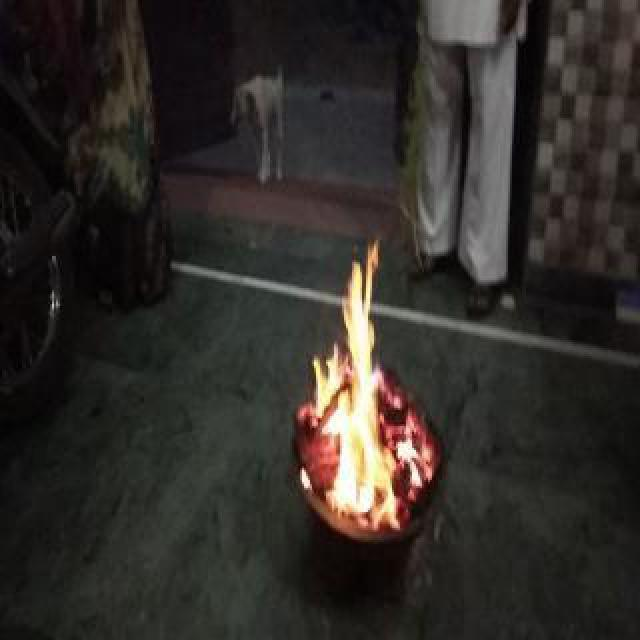Fire: (298, 242, 432, 524)
